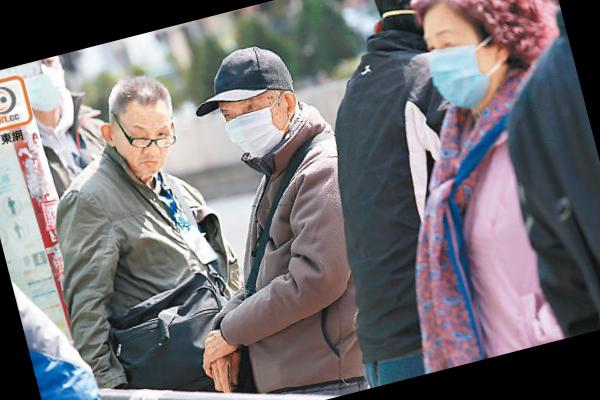with_mask: (420, 16, 509, 119), (216, 87, 295, 163), (17, 55, 75, 119)
without_mask: (109, 113, 183, 183)
